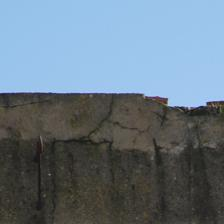Crack: (29, 48, 117, 104)
